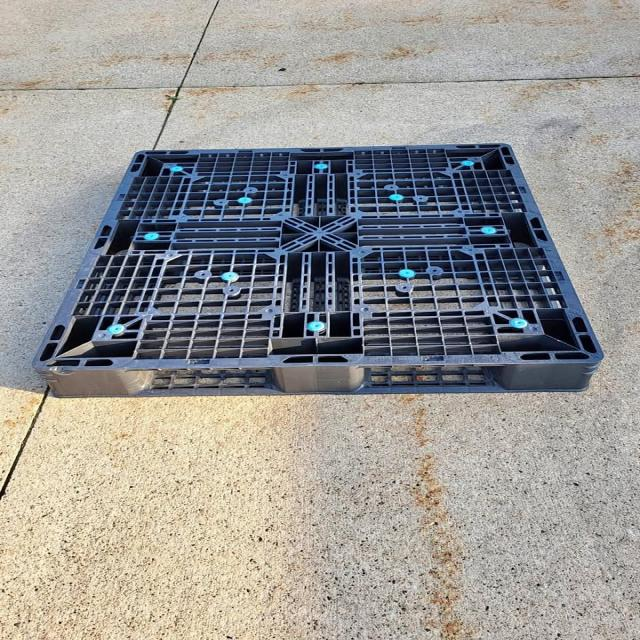non-igps: (25, 134, 610, 406)
